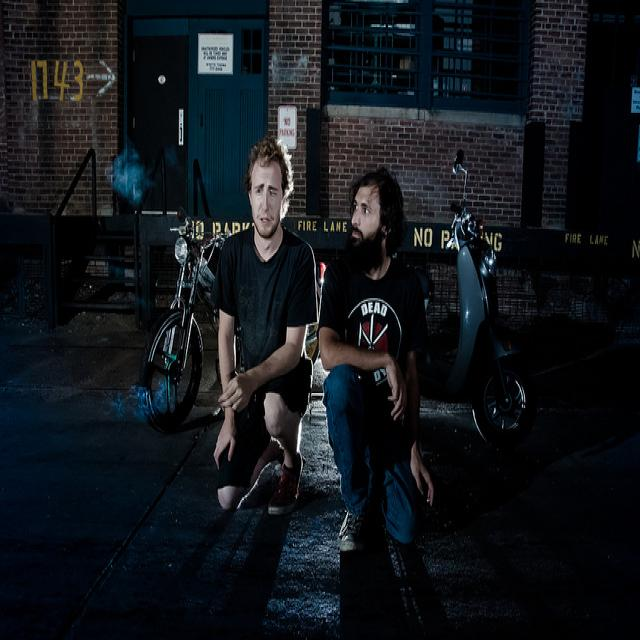Motorbike: (417, 140, 533, 447), (137, 209, 225, 447)
People: (324, 146, 439, 582), (210, 122, 327, 516)
